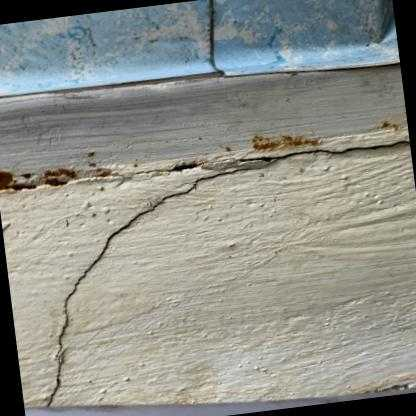crack: (43, 166, 258, 406), (235, 139, 410, 162)
